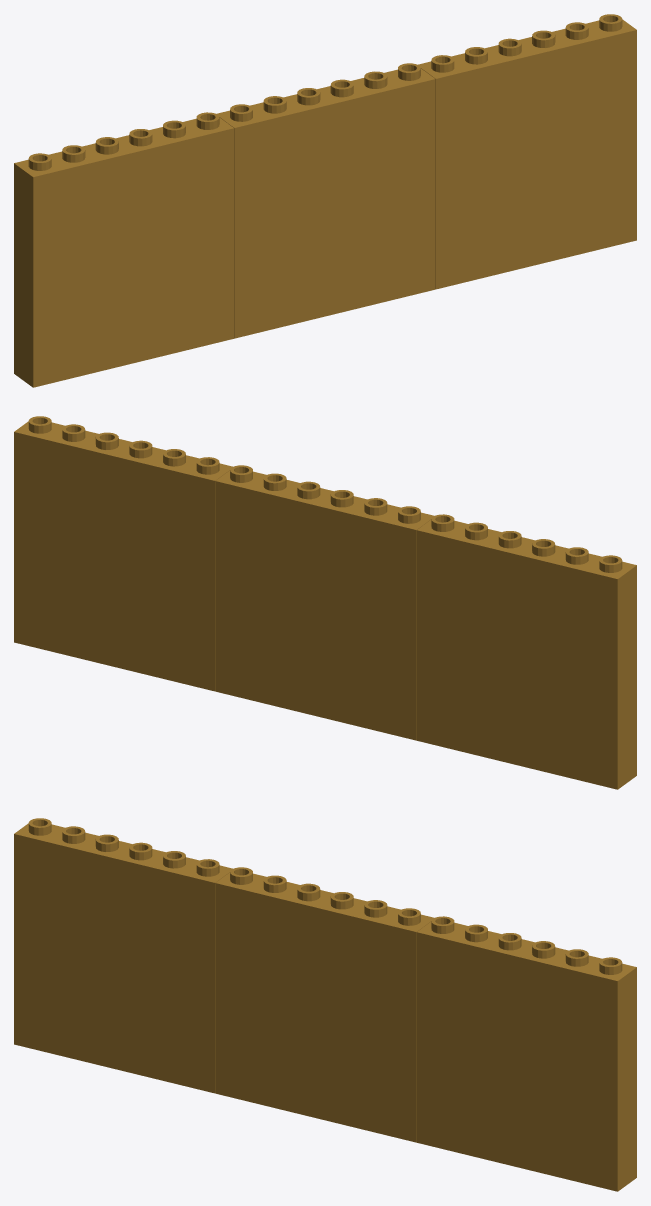
The model's file is Wall.dae.
3 renders of one model, top to bottom at view 1: azimuth 30°, elevation 25°; view 2: azimuth 150°, elevation 25°; view 3: azimuth 330°, elevation 25°, orthographic.
Parts seen in each view (by area): view 1: Part.0, Part.1, Part.2; view 2: Part.0, Part.1, Part.2; view 3: Part.2, Part.1, Part.0.
Boxes of the visible parts, x1,y1,x2,y2 form: Part.0: (14, 112, 234, 387); Part.1: (216, 63, 435, 338); Part.2: (418, 14, 636, 289); Part.0: (416, 514, 636, 789); Part.1: (215, 465, 434, 740); Part.2: (14, 416, 232, 691); Part.2: (416, 916, 636, 1191); Part.1: (215, 867, 434, 1142); Part.0: (14, 818, 232, 1093).
Size of the model in its own units: 144 by 49.76 by 7.92.
